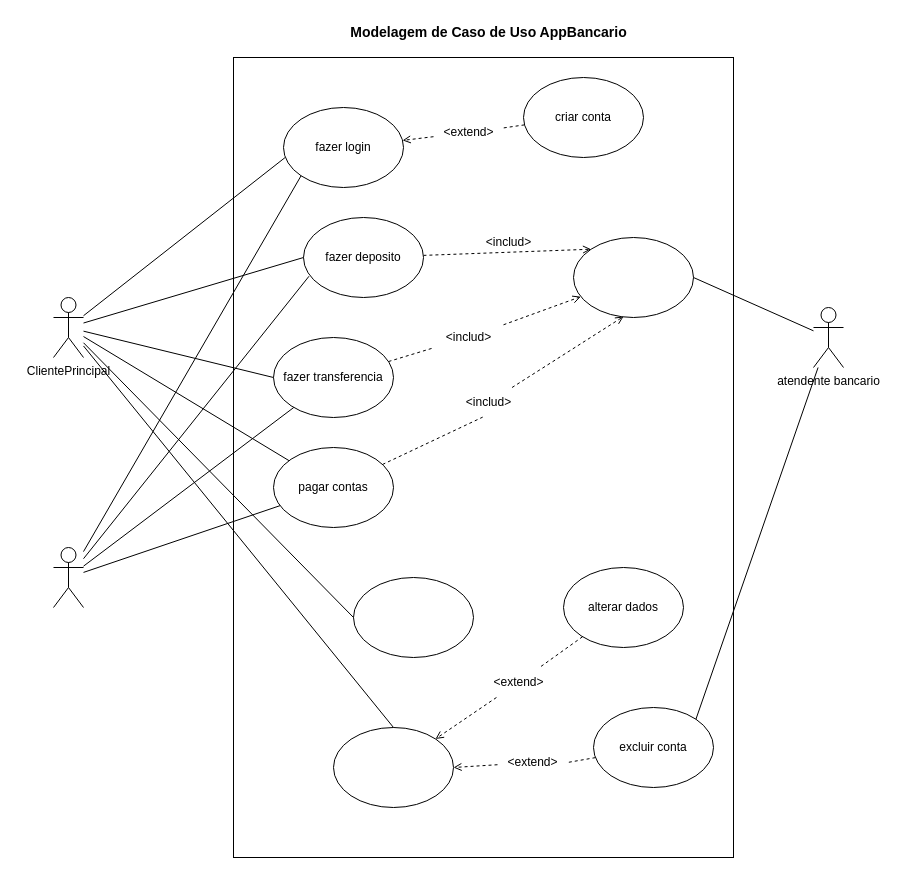
This 897x875 diagram has some shape labels left out. The shapes that lost their labels are listed below. From the top down, each one's box as (x1, y1, x2, y2) in pixels, then its label:
(572, 236, 694, 318): validacao e analise de dados
(52, 546, 84, 608): ClienteDependente
(352, 576, 474, 658): emprestimos
(332, 726, 454, 808): configuracoes
